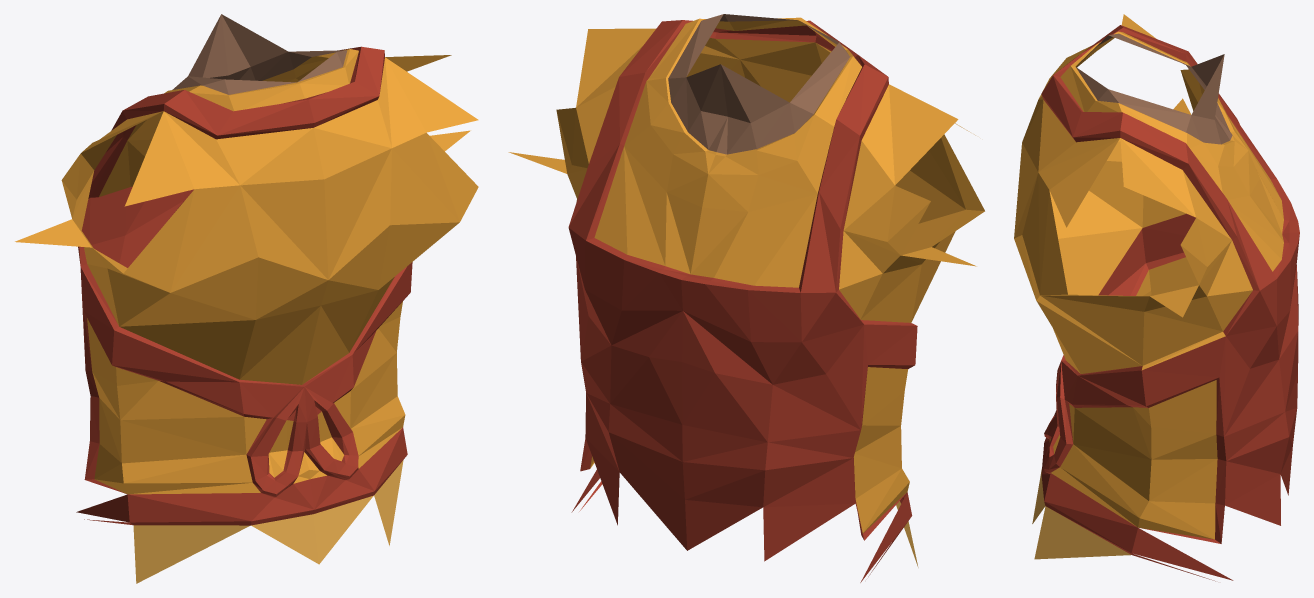
Rendered from ShopKeeper_01_Torso_0_02_C.obj.
3 renders of one model, left to right at view 1: azimuth 30°, elevation 25°; view 2: azimuth 150°, elevation 25°; view 3: azimuth 270°, elevation 25°, orthographic. The views are drawn at different scales.
Parts seen in each view (by area): view 1: ShopKeeper_01_Torso_0_02_C; view 2: ShopKeeper_01_Torso_0_02_C; view 3: ShopKeeper_01_Torso_0_02_C.
Part boxes in pixels (x1,y1,x2,y2): ShopKeeper_01_Torso_0_02_C: (15, 14, 478, 583); ShopKeeper_01_Torso_0_02_C: (508, 14, 984, 582); ShopKeeper_01_Torso_0_02_C: (1014, 14, 1299, 581).
Size of the model in its own units: 0.5658 by 0.5874 by 0.3117.
Materials: 1 (1 with a texture image).
